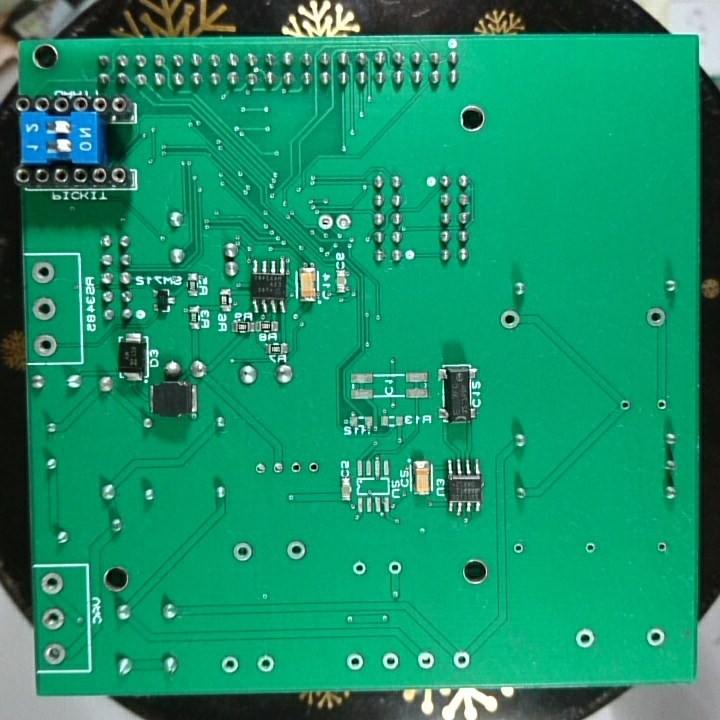F: (39, 603, 67, 635), (38, 570, 68, 597), (31, 332, 59, 360), (40, 640, 69, 667), (29, 259, 57, 286), (30, 296, 58, 323), (642, 304, 668, 329), (497, 309, 524, 333), (645, 625, 668, 651), (283, 538, 307, 562), (574, 626, 596, 652), (342, 650, 368, 672), (230, 541, 254, 564), (379, 649, 402, 673), (414, 649, 437, 672), (254, 652, 277, 675), (450, 649, 474, 671), (219, 653, 242, 675), (315, 210, 334, 235), (349, 558, 371, 578), (615, 395, 635, 415), (288, 457, 305, 480), (652, 395, 671, 415), (334, 212, 352, 233), (386, 558, 404, 578), (270, 459, 287, 479), (654, 539, 671, 558), (306, 457, 322, 477), (252, 460, 270, 477), (582, 539, 598, 556), (511, 540, 526, 558)
